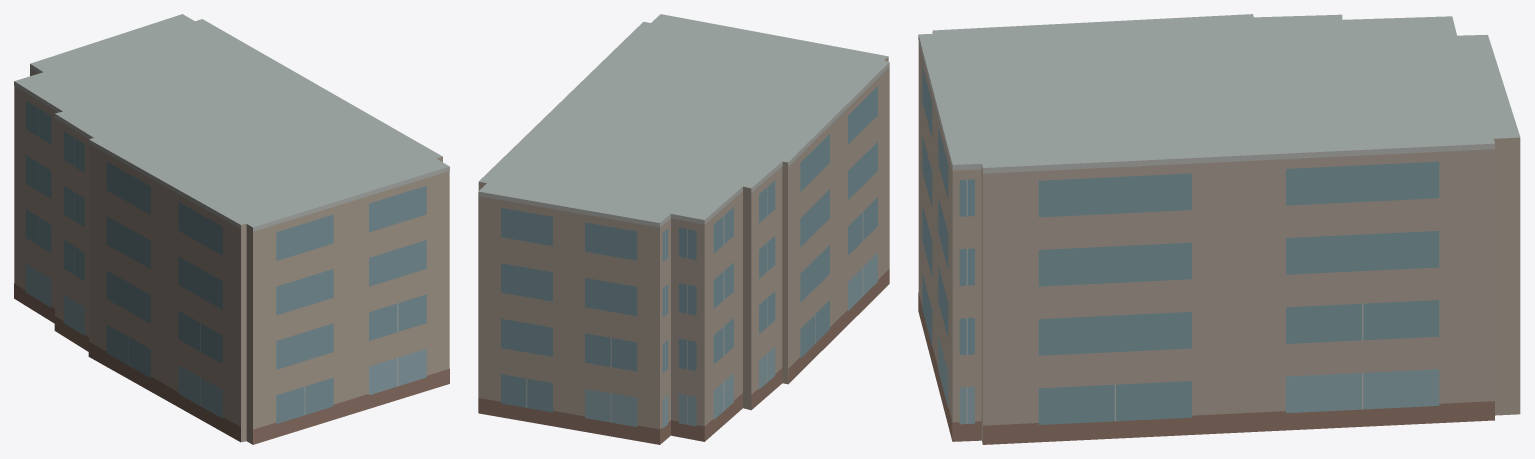
File: survey-upis-32599928.glb
The picture shows the model from 3 angles, left to right: view 1: azimuth 30°, elevation 25°; view 2: azimuth 150°, elevation 25°; view 3: azimuth 270°, elevation 25°; orthographic projection. The views are drawn at different scales.
Parts seen in each view (by area): view 1: survey-upis-32599928.tmp; view 2: survey-upis-32599928.tmp; view 3: survey-upis-32599928.tmp.
Part boxes in pixels (x1,y1,x2,y2): survey-upis-32599928.tmp: (14, 14, 449, 444); survey-upis-32599928.tmp: (478, 14, 889, 444); survey-upis-32599928.tmp: (918, 14, 1520, 444).
Bounding box in the file's own units: 14.39 × 12.05 × 23.76.
